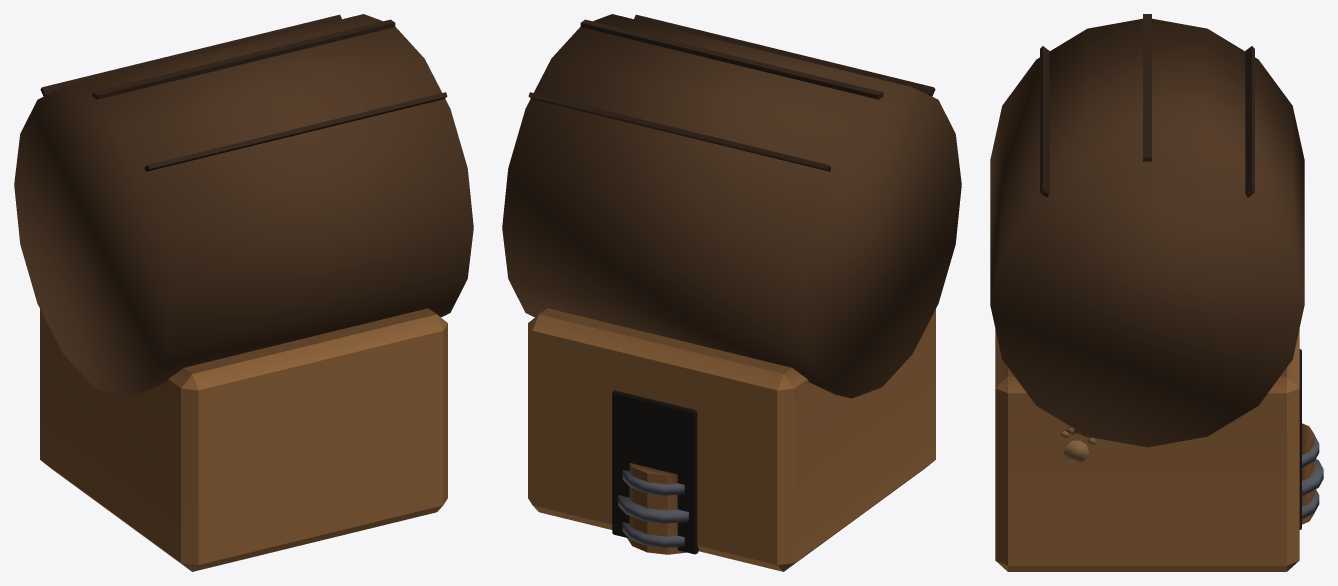
The model's file is house_garudo.glb.
3 views of the same model, side by side, from view 1: azimuth 30°, elevation 25°; view 2: azimuth 150°, elevation 25°; view 3: azimuth 270°, elevation 25° (orthographic).
Parts seen in each view (by area): view 1: house_garudo; view 2: house_garudo; view 3: house_garudo.
Boxes of the visible parts, x1,y1,x2,y2 form: house_garudo: (14,14,473,571); house_garudo: (502,14,961,571); house_garudo: (990,14,1323,571).
Bounding box in the file's own units: 1.35 × 1.86 × 1.32.
